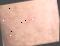plaque psoriasis: (51, 0, 58, 7)
